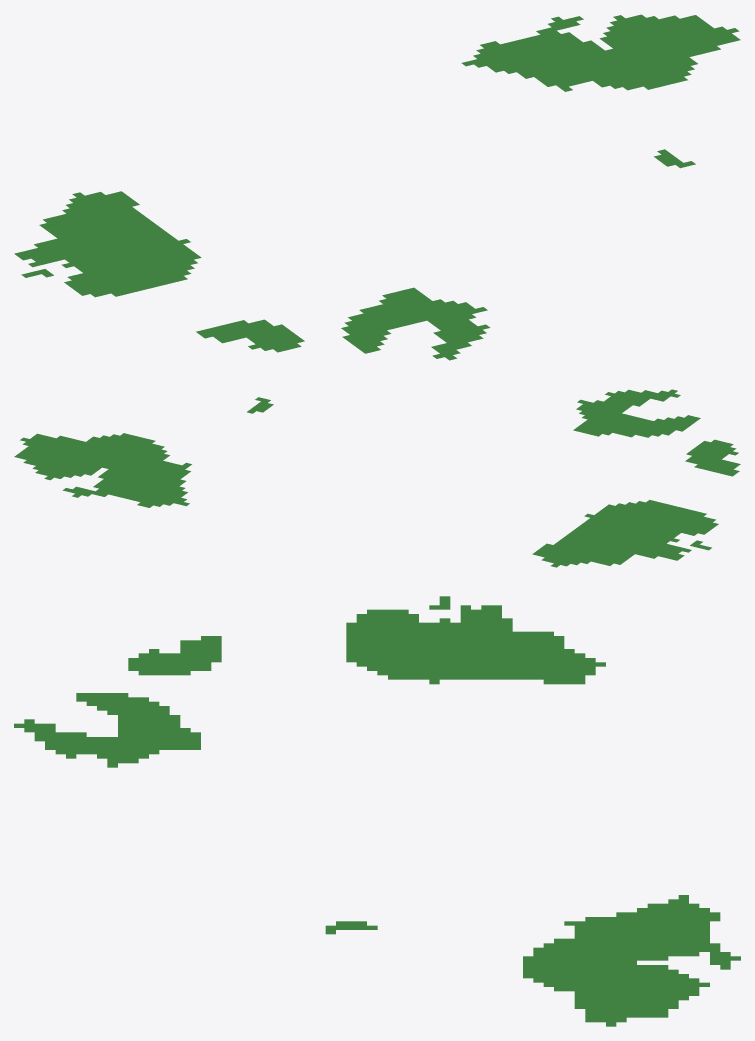
Rendered from Isl-start3-TreesArea.fbx.
3 renders of one model, top to bottom at view 1: azimuth 30°, elevation 25°; view 2: azimuth 150°, elevation 25°; view 3: azimuth 270°, elevation 25°, orthographic. The views are drawn at different scales.
Parts seen in each view (by area): view 1: Isl-start3-TreesArea; view 2: Isl-start3-TreesArea; view 3: Isl-start3-TreesArea.
Boxes of the visible parts, x1,y1,x2,y2 form: Isl-start3-TreesArea: (14,14,740,360); Isl-start3-TreesArea: (14,389,740,567); Isl-start3-TreesArea: (14,596,740,1026).
Size of the model in its own units: 98 by 0 by 70.
